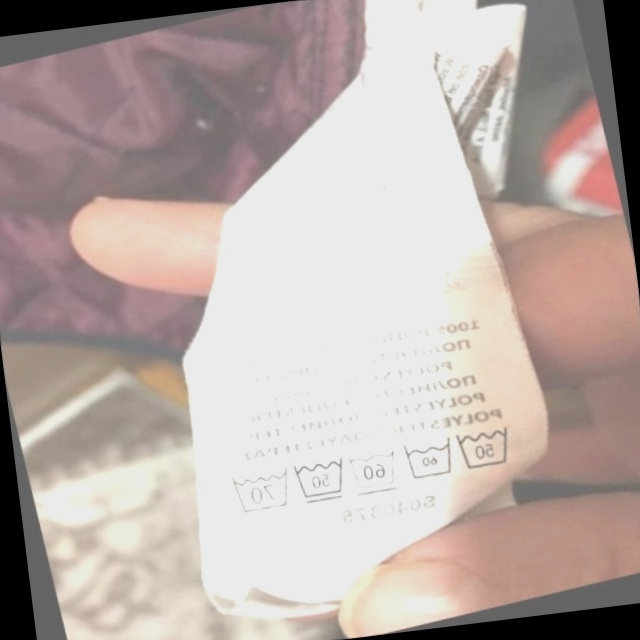50C: (441, 406, 529, 487), (279, 442, 360, 519)
60C: (333, 433, 411, 508), (389, 423, 467, 496)
70C: (214, 452, 302, 529)
